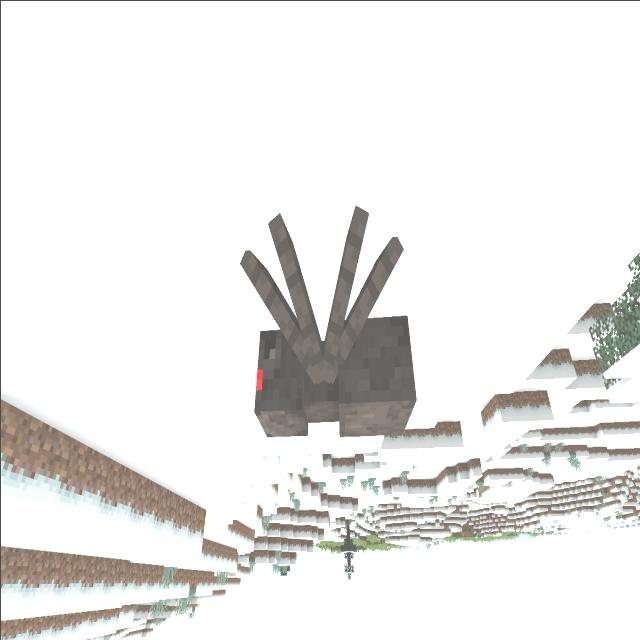Spider: (232, 192, 422, 451)
